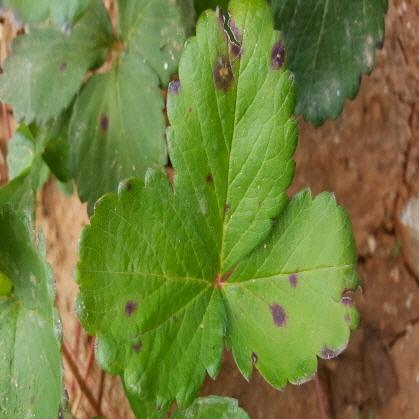Leaf Spot: (72, 167, 226, 411), (165, 0, 298, 280), (217, 185, 365, 392), (68, 50, 169, 219), (0, 203, 79, 418), (0, 27, 89, 127)
